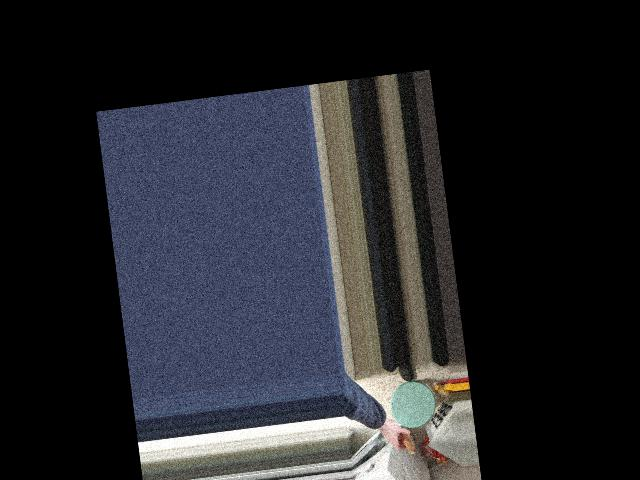sweet_potato: (390, 417, 414, 456)
